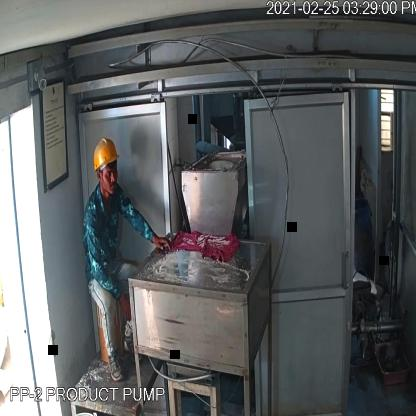helmet: (90, 135, 122, 173)
